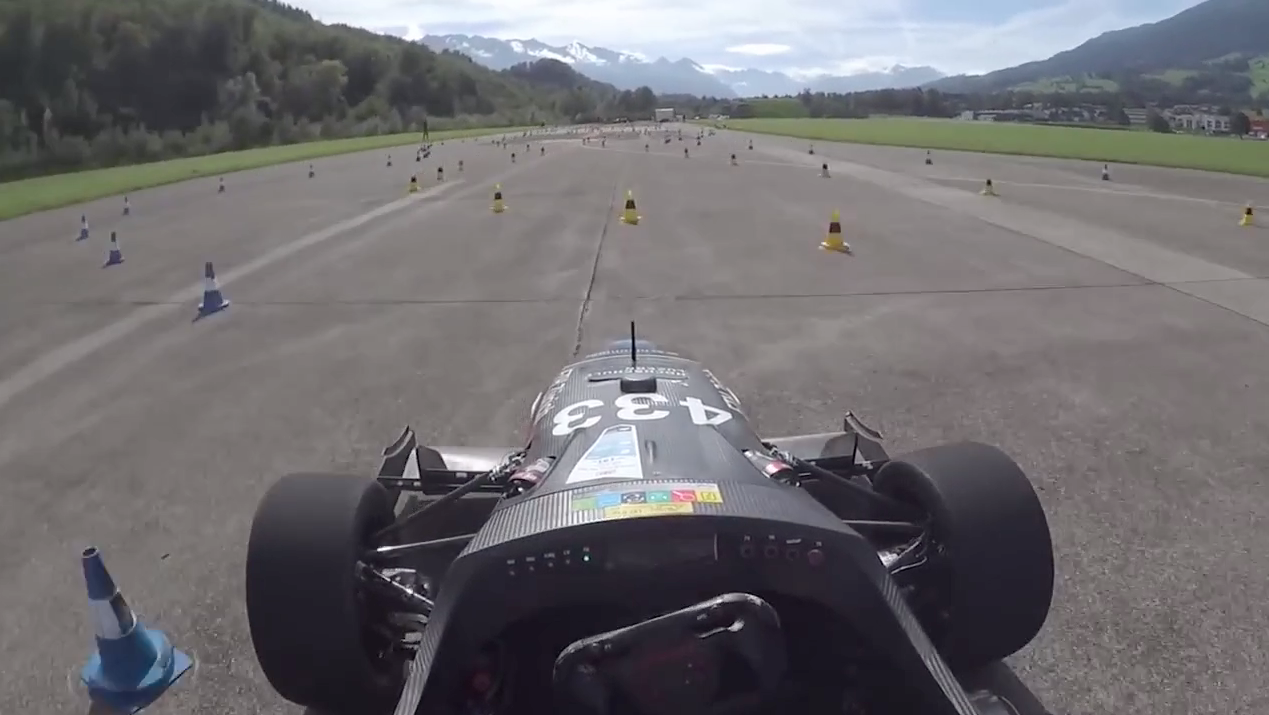lcone: (62, 538, 201, 709), (188, 255, 237, 317), (101, 228, 129, 268)
rcone: (816, 203, 854, 257), (615, 185, 645, 227), (485, 180, 511, 214)
